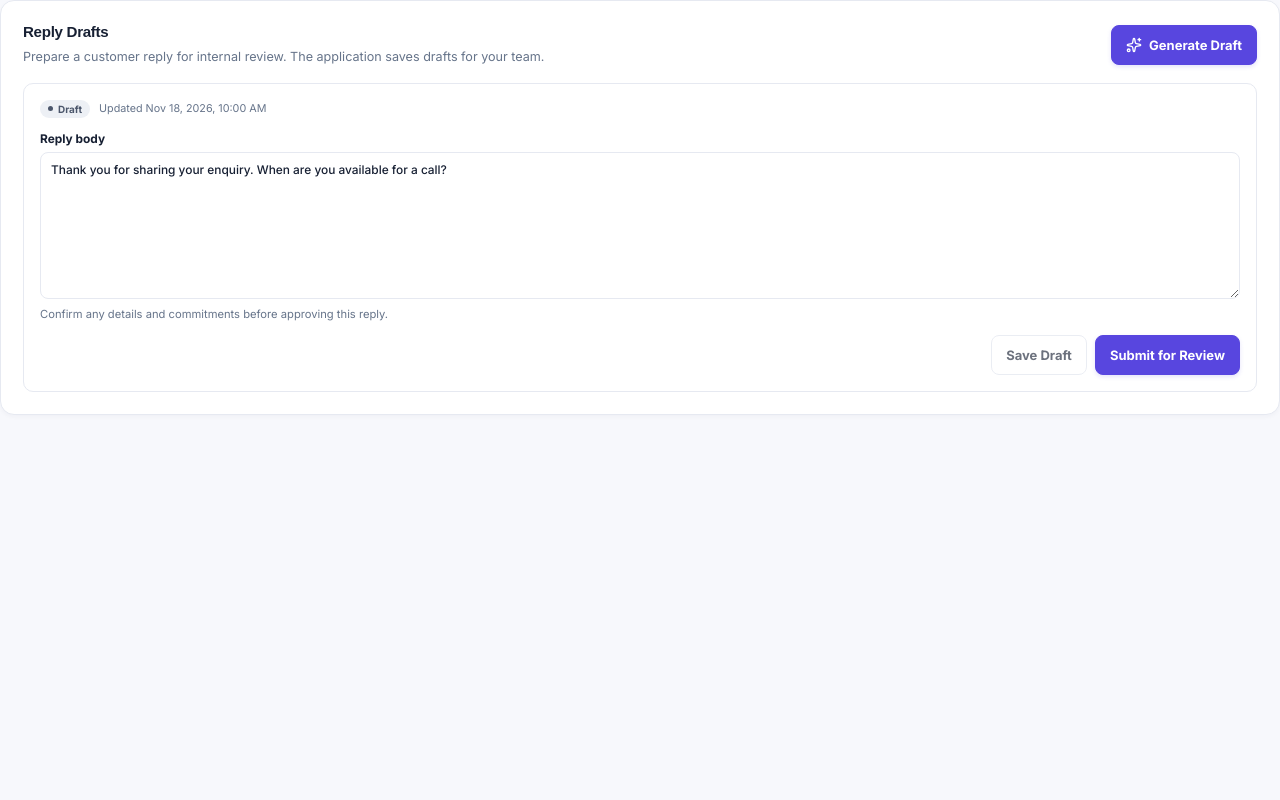
Test case: lead workflow › submits an edited reply for review and makes the approved body read-only
The width and height of the screenshot is (1280, 800).
Replace the text in the text box labelled "Reply body" with "Can we arrange a call on Tuesday?" at (640, 226), box [40,152,1240,299]
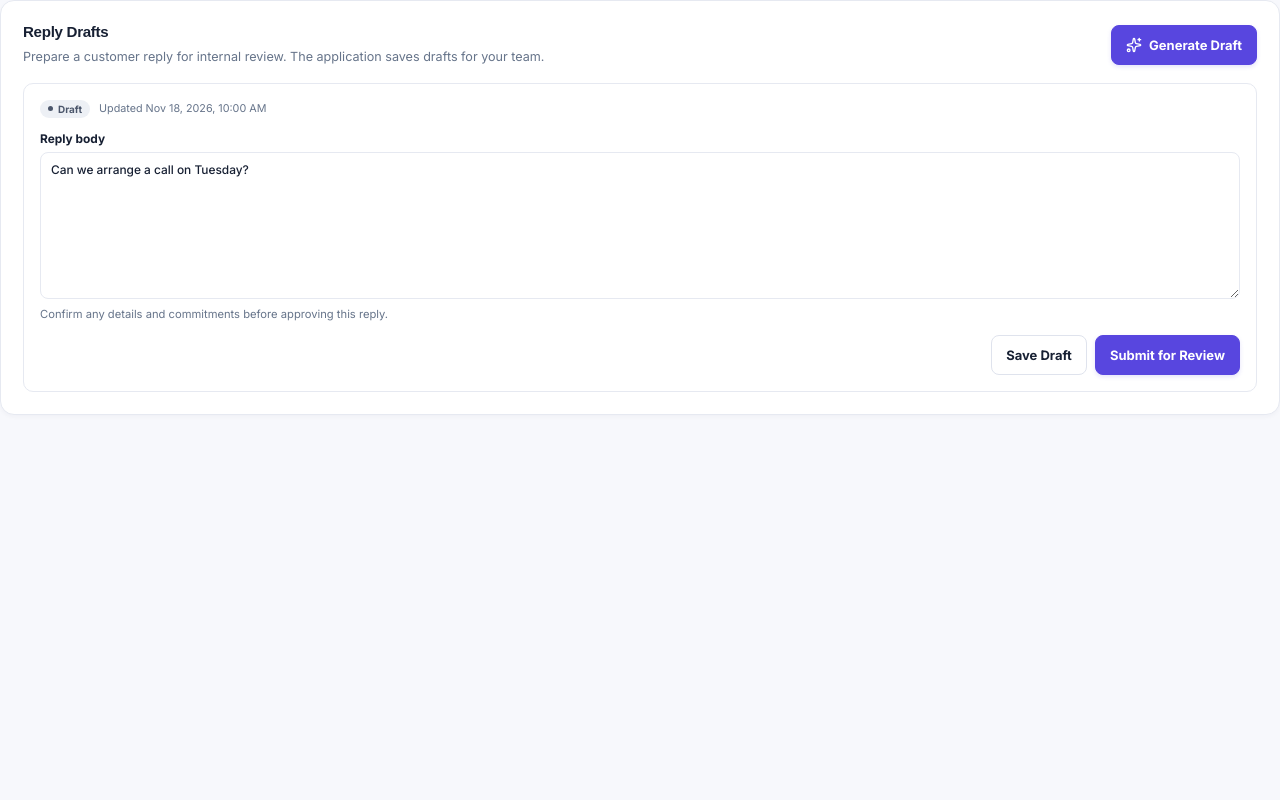
Click the button "Submit for Review" at (1167, 355), box [1095,335,1240,375]
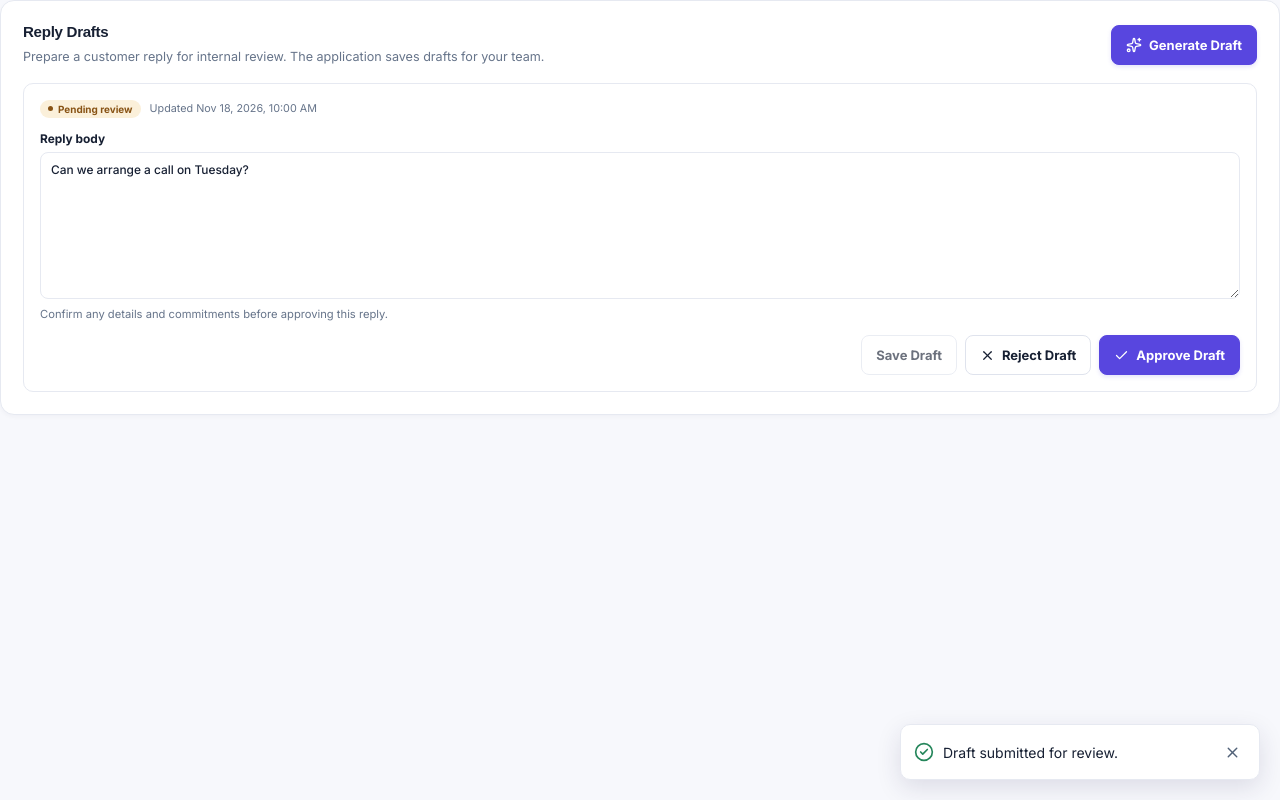
Now the text "Pending review" is shown, box [40,100,141,118]
Click the button "Approve Draft" at (1170, 355), box [1099,335,1240,375]
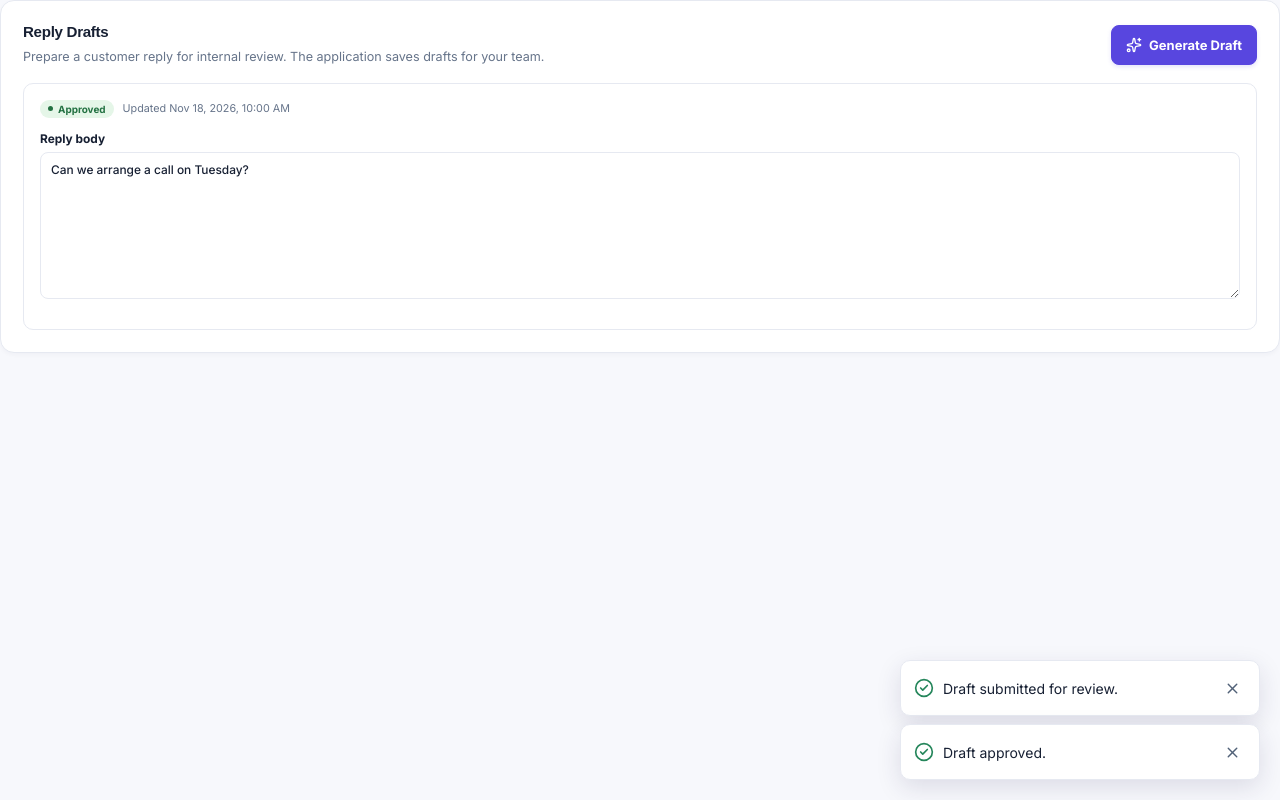
Now the text box labelled "Reply body" holds "Can we arrange a call on Tuesday?", box [40,152,1240,299]
Now the text "Approved" is shown, box [40,100,114,118]
